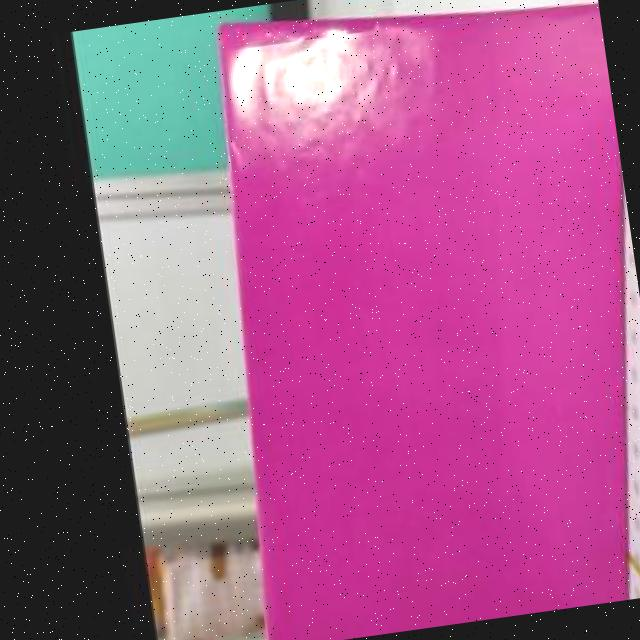xparking: (220, 6, 631, 640)
